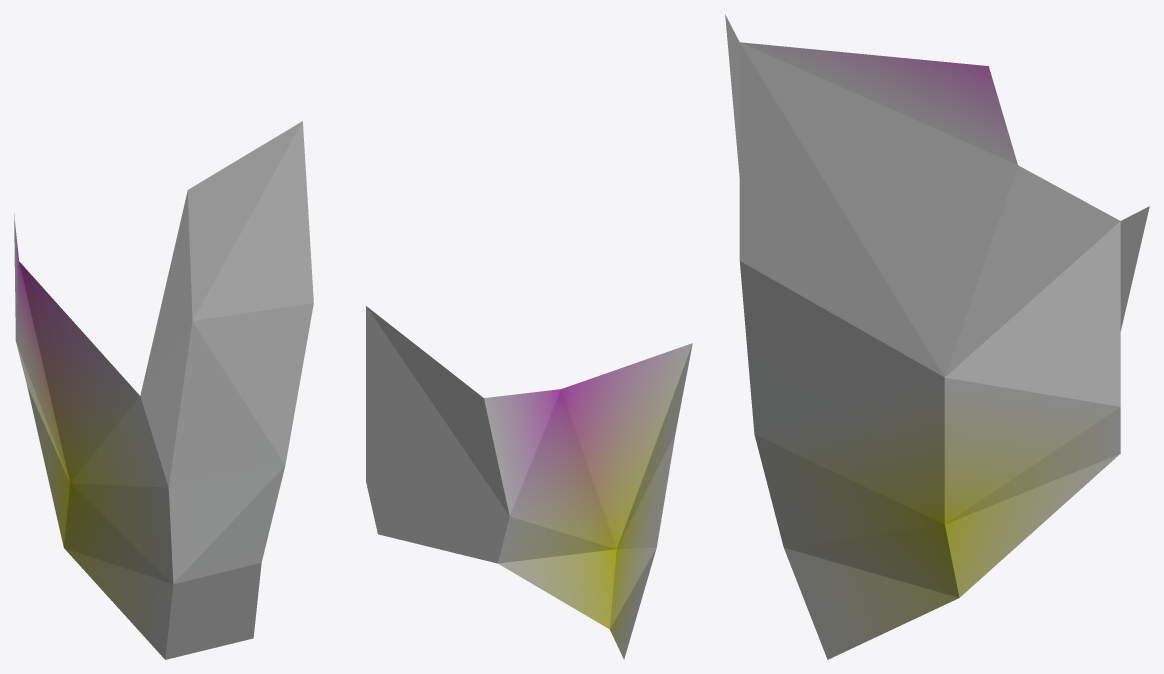
The picture shows the model from 3 angles, left to right: view 1: azimuth 30°, elevation 25°; view 2: azimuth 150°, elevation 25°; view 3: azimuth 270°, elevation 25°; orthographic projection. The views are drawn at different scales.
Parts seen in each view (by area): view 1: model_1163; view 2: model_1163; view 3: model_1163.
Part boxes in pixels (<box>): model_1163: <box>14,121,313,659</box>; model_1163: <box>366,306,692,659</box>; model_1163: <box>725,14,1149,659</box>.
Bounding box in the file's own units: 20 × 48 × 29.
